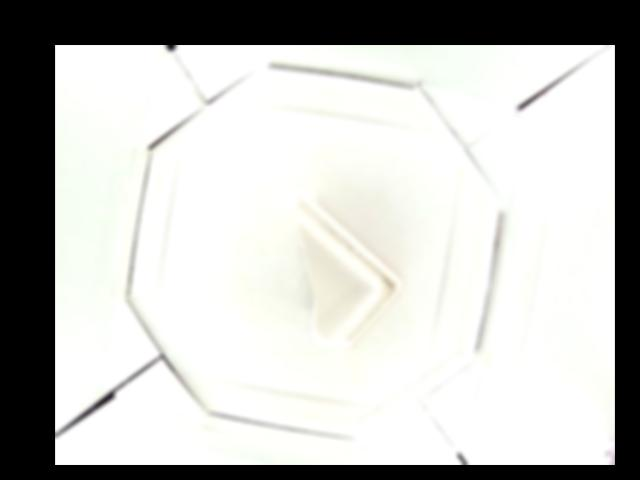China: (295, 190, 398, 347)
